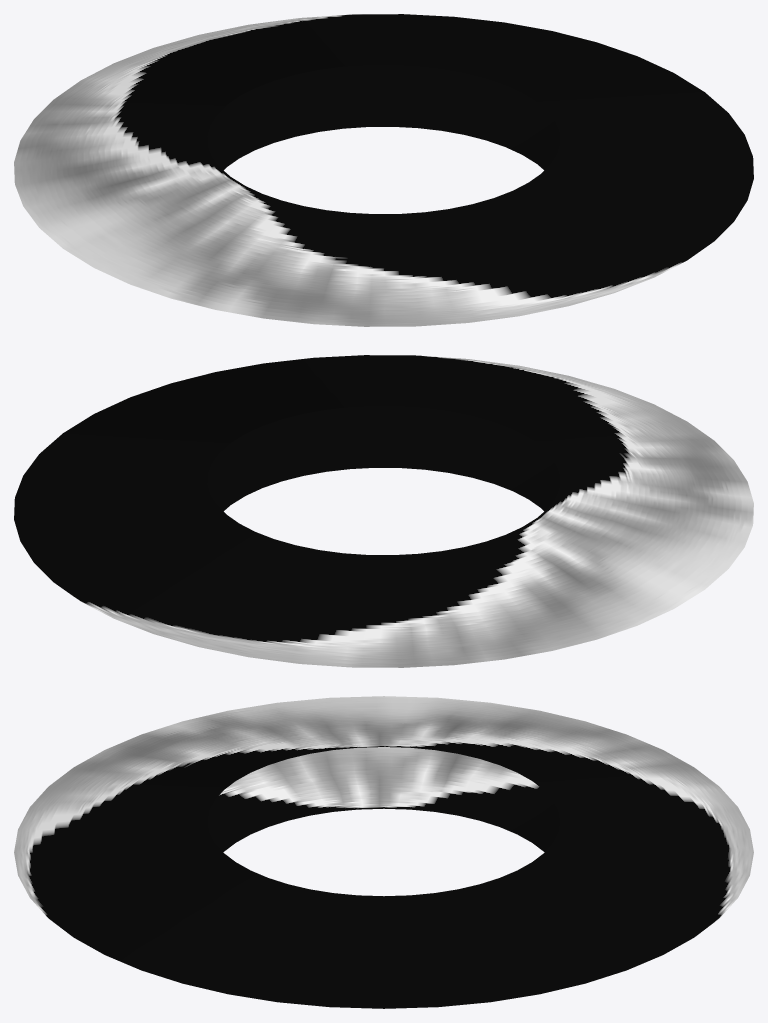
Rendered from yuanhuandaoguang.FBX.
The picture shows the model from 3 angles, top to bottom: view 1: azimuth 30°, elevation 25°; view 2: azimuth 150°, elevation 25°; view 3: azimuth 270°, elevation 25°; orthographic projection.
Visible parts, largest first — view 1: Loft002; view 2: Loft002; view 3: Loft002.
Boxes of the visible parts, box(x1,y1,x2,y2) form: Loft002: box(14, 14, 753, 326); Loft002: box(14, 355, 753, 667); Loft002: box(14, 696, 753, 1008).
Size of the model in its own units: 120 by 11.06 by 120.
